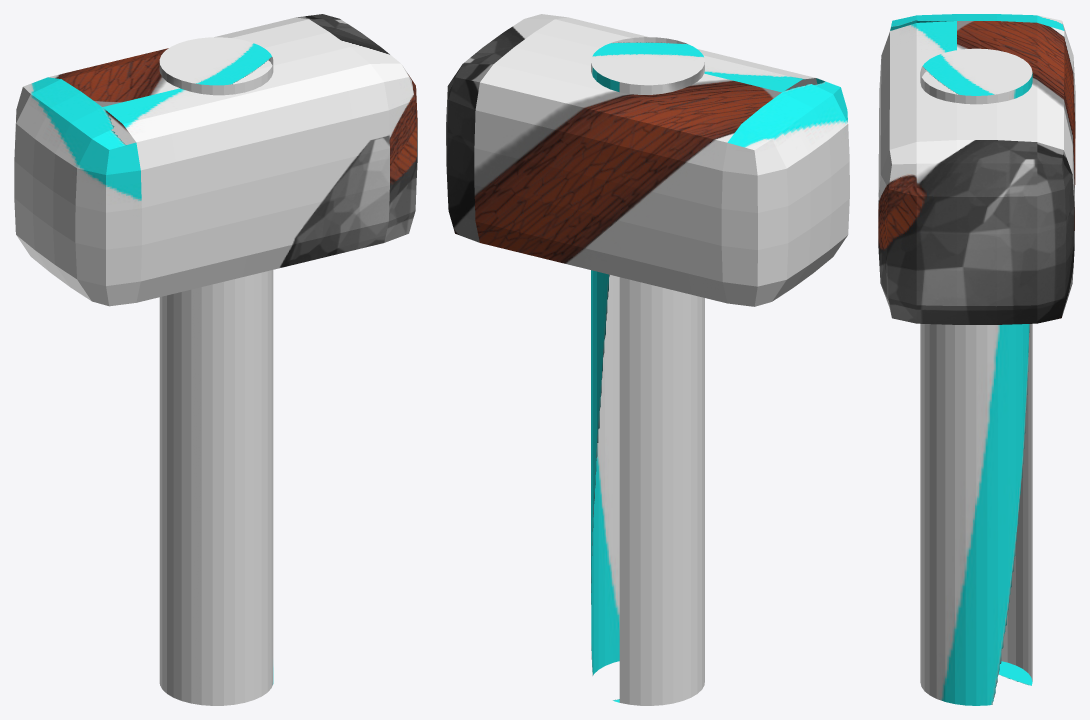
Rendered from hammer.fbx.
3 views of the same model, side by side, from view 1: azimuth 30°, elevation 25°; view 2: azimuth 150°, elevation 25°; view 3: azimuth 270°, elevation 25° (orthographic).
Parts seen in each view (by area): view 1: Cube, Cylinder; view 2: Cube, Cylinder; view 3: Cube, Cylinder.
Boxes of the visible parts, box(x1,y1,x2,y2) form: Cube: box(14, 14, 417, 306); Cylinder: box(159, 37, 273, 705); Cube: box(446, 14, 849, 306); Cylinder: box(591, 37, 704, 705); Cube: box(878, 14, 1075, 324); Cylinder: box(920, 48, 1032, 705).
Bounding box in the file's own units: 210 × 360 × 105.
